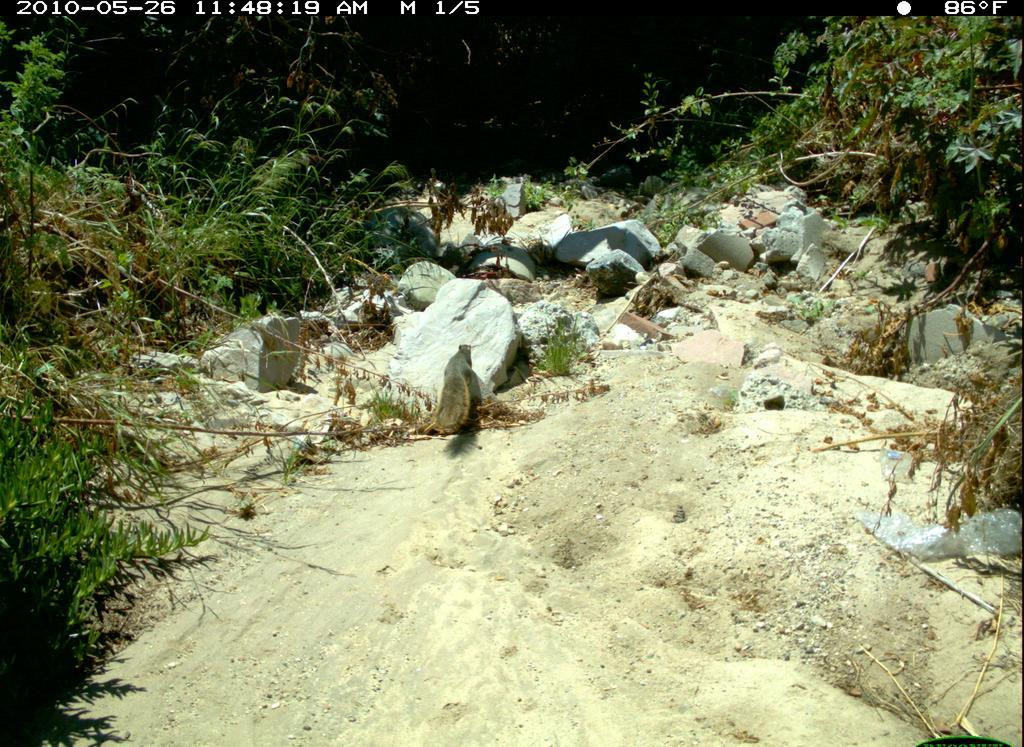squirrel: (428, 334, 497, 453)
